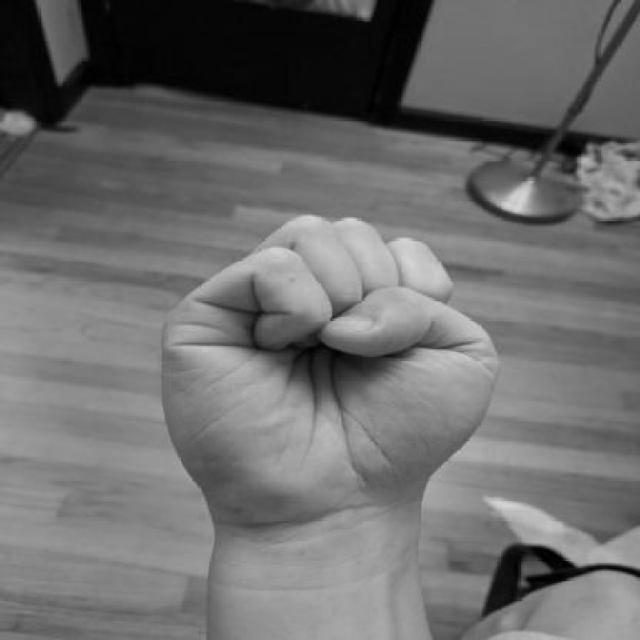E: (151, 209, 506, 536)
